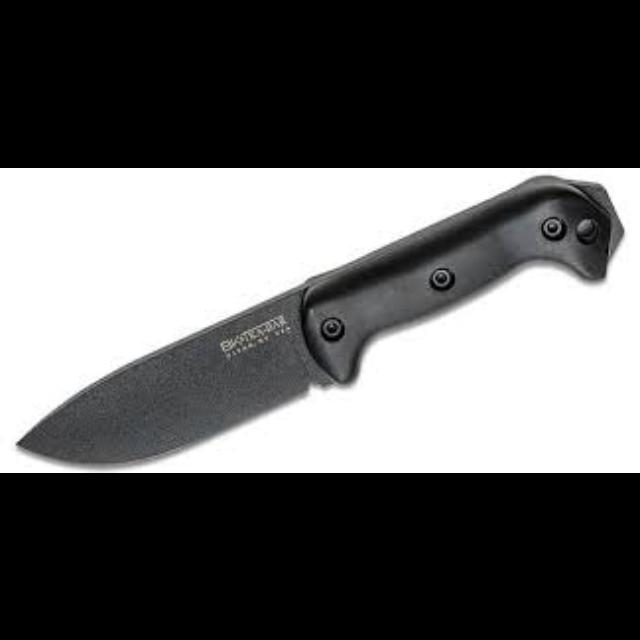knife: (14, 172, 624, 464)
